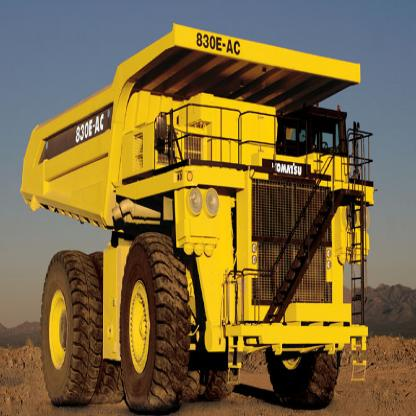dump_truck: (16, 17, 373, 414)
